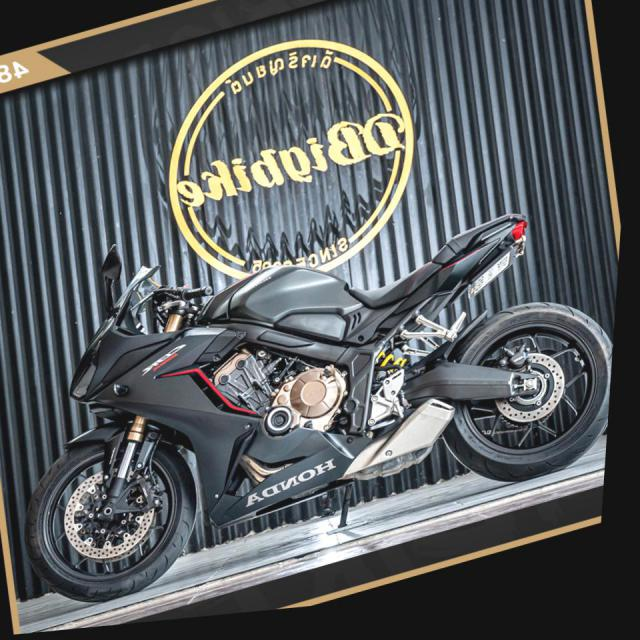CBR650R: (0, 144, 630, 631)
